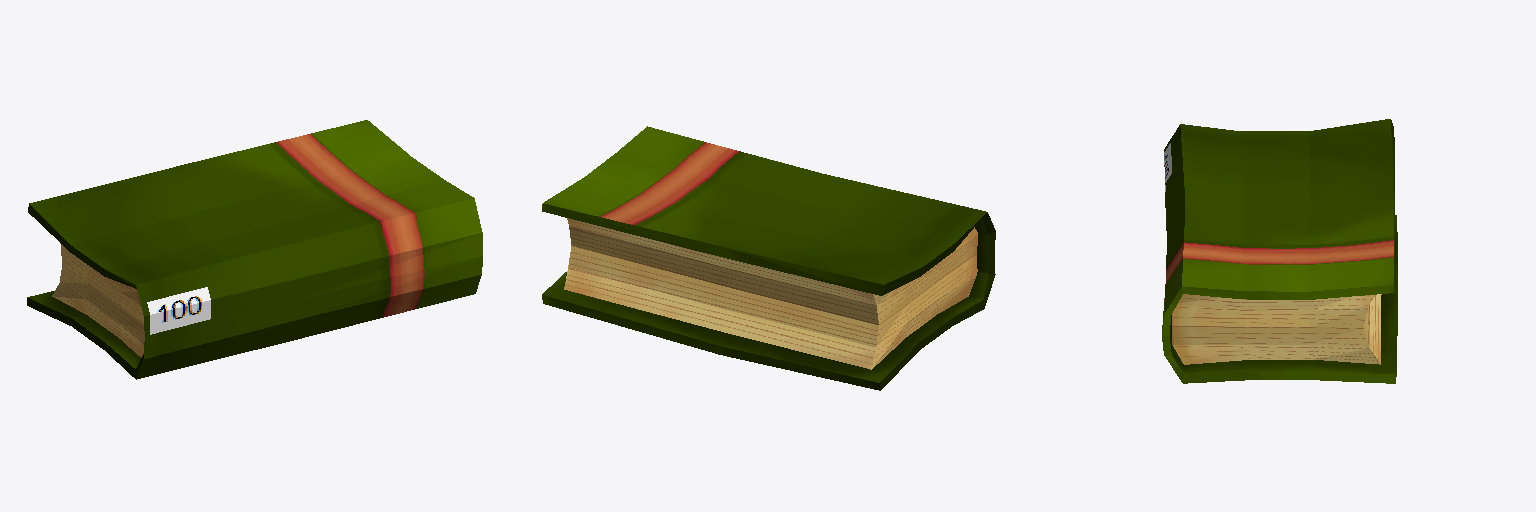
The picture shows the model from 3 angles: view 1: azimuth 30°, elevation 25°; view 2: azimuth 150°, elevation 25°; view 3: azimuth 270°, elevation 25°; orthographic projection.
Parts seen in each view (by area): view 1: Cover.040, Pages.008; view 2: Cover.040, Pages.008; view 3: Cover.040, Pages.008.
Boxes of the visible parts, x1=… form: Cover.040: x1=27, y1=120, x2=482, y2=379; Pages.008: x1=52, y1=243, x2=144, y2=357; Cover.040: x1=542, y1=126, x2=995, y2=390; Pages.008: x1=564, y1=218, x2=977, y2=369; Cover.040: x1=1162, y1=119, x2=1397, y2=383; Pages.008: x1=1172, y1=294, x2=1381, y2=364.
Size of the model in its own units: 9.81 by 2.93 by 5.85.
2 materials, 2 textured.